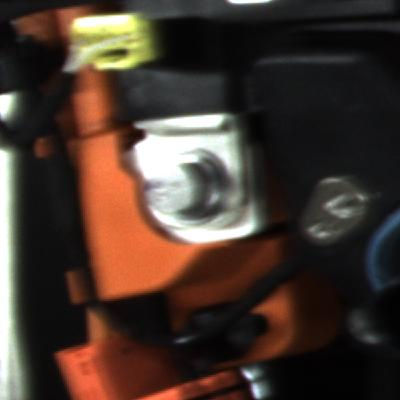nut_b: (141, 148, 241, 233)
